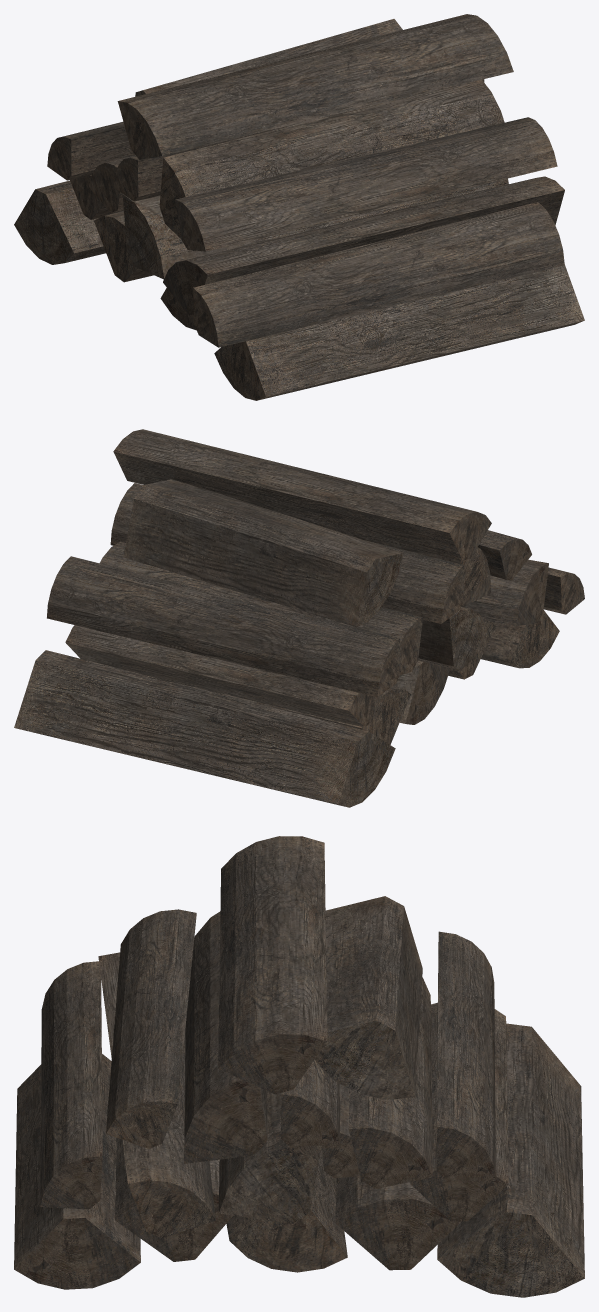
The model's file is Logpile_2.FBX.
3 renders of one model, top to bottom at view 1: azimuth 30°, elevation 25°; view 2: azimuth 150°, elevation 25°; view 3: azimuth 270°, elevation 25°, orthographic. The views are drawn at different scales.
Parts seen in each view (by area): view 1: mesh; view 2: mesh; view 3: mesh.
Part boxes in pixels (left/top/right/bottom): mesh: left=14, top=14, right=584, bottom=400; mesh: left=14, top=429, right=584, bottom=807; mesh: left=14, top=836, right=584, bottom=1297.
Size of the model in its own units: 84.96 by 94 by 48.52.
